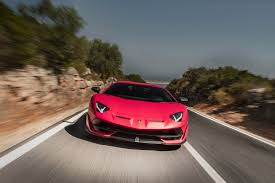Lamborghini: (92, 79, 186, 146)
